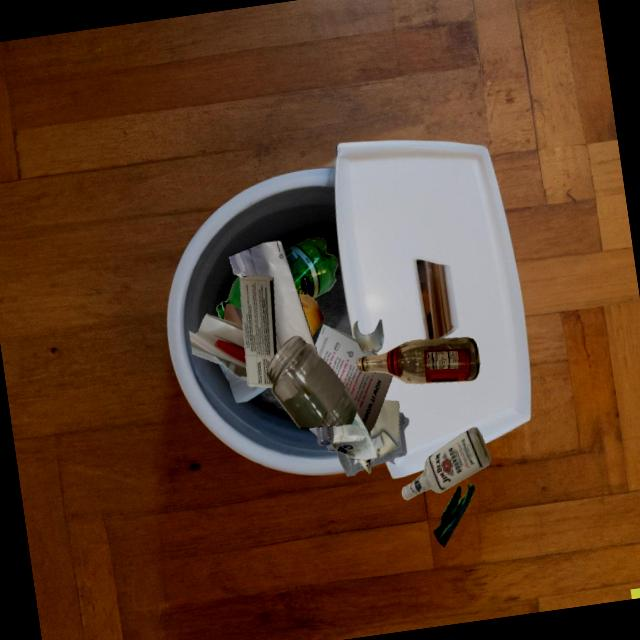biowaste: (434, 484, 475, 547), (298, 294, 323, 337)
glass: (266, 336, 357, 428), (402, 427, 491, 500), (357, 337, 480, 384), (353, 319, 384, 353)
paper: (315, 324, 393, 460), (229, 240, 318, 354), (239, 275, 277, 388), (189, 314, 247, 381), (218, 363, 269, 403), (370, 400, 399, 457), (223, 304, 243, 329)
plastic: (285, 237, 338, 299), (370, 412, 409, 467), (327, 445, 366, 476), (316, 426, 334, 446)
